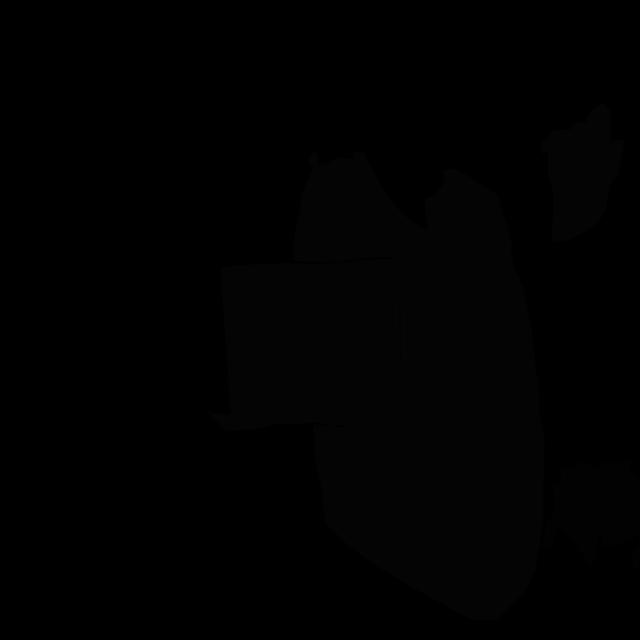cardboard: (542, 459, 640, 570)
soft_plastic: (293, 151, 544, 620), (207, 258, 410, 436), (540, 103, 623, 243)
